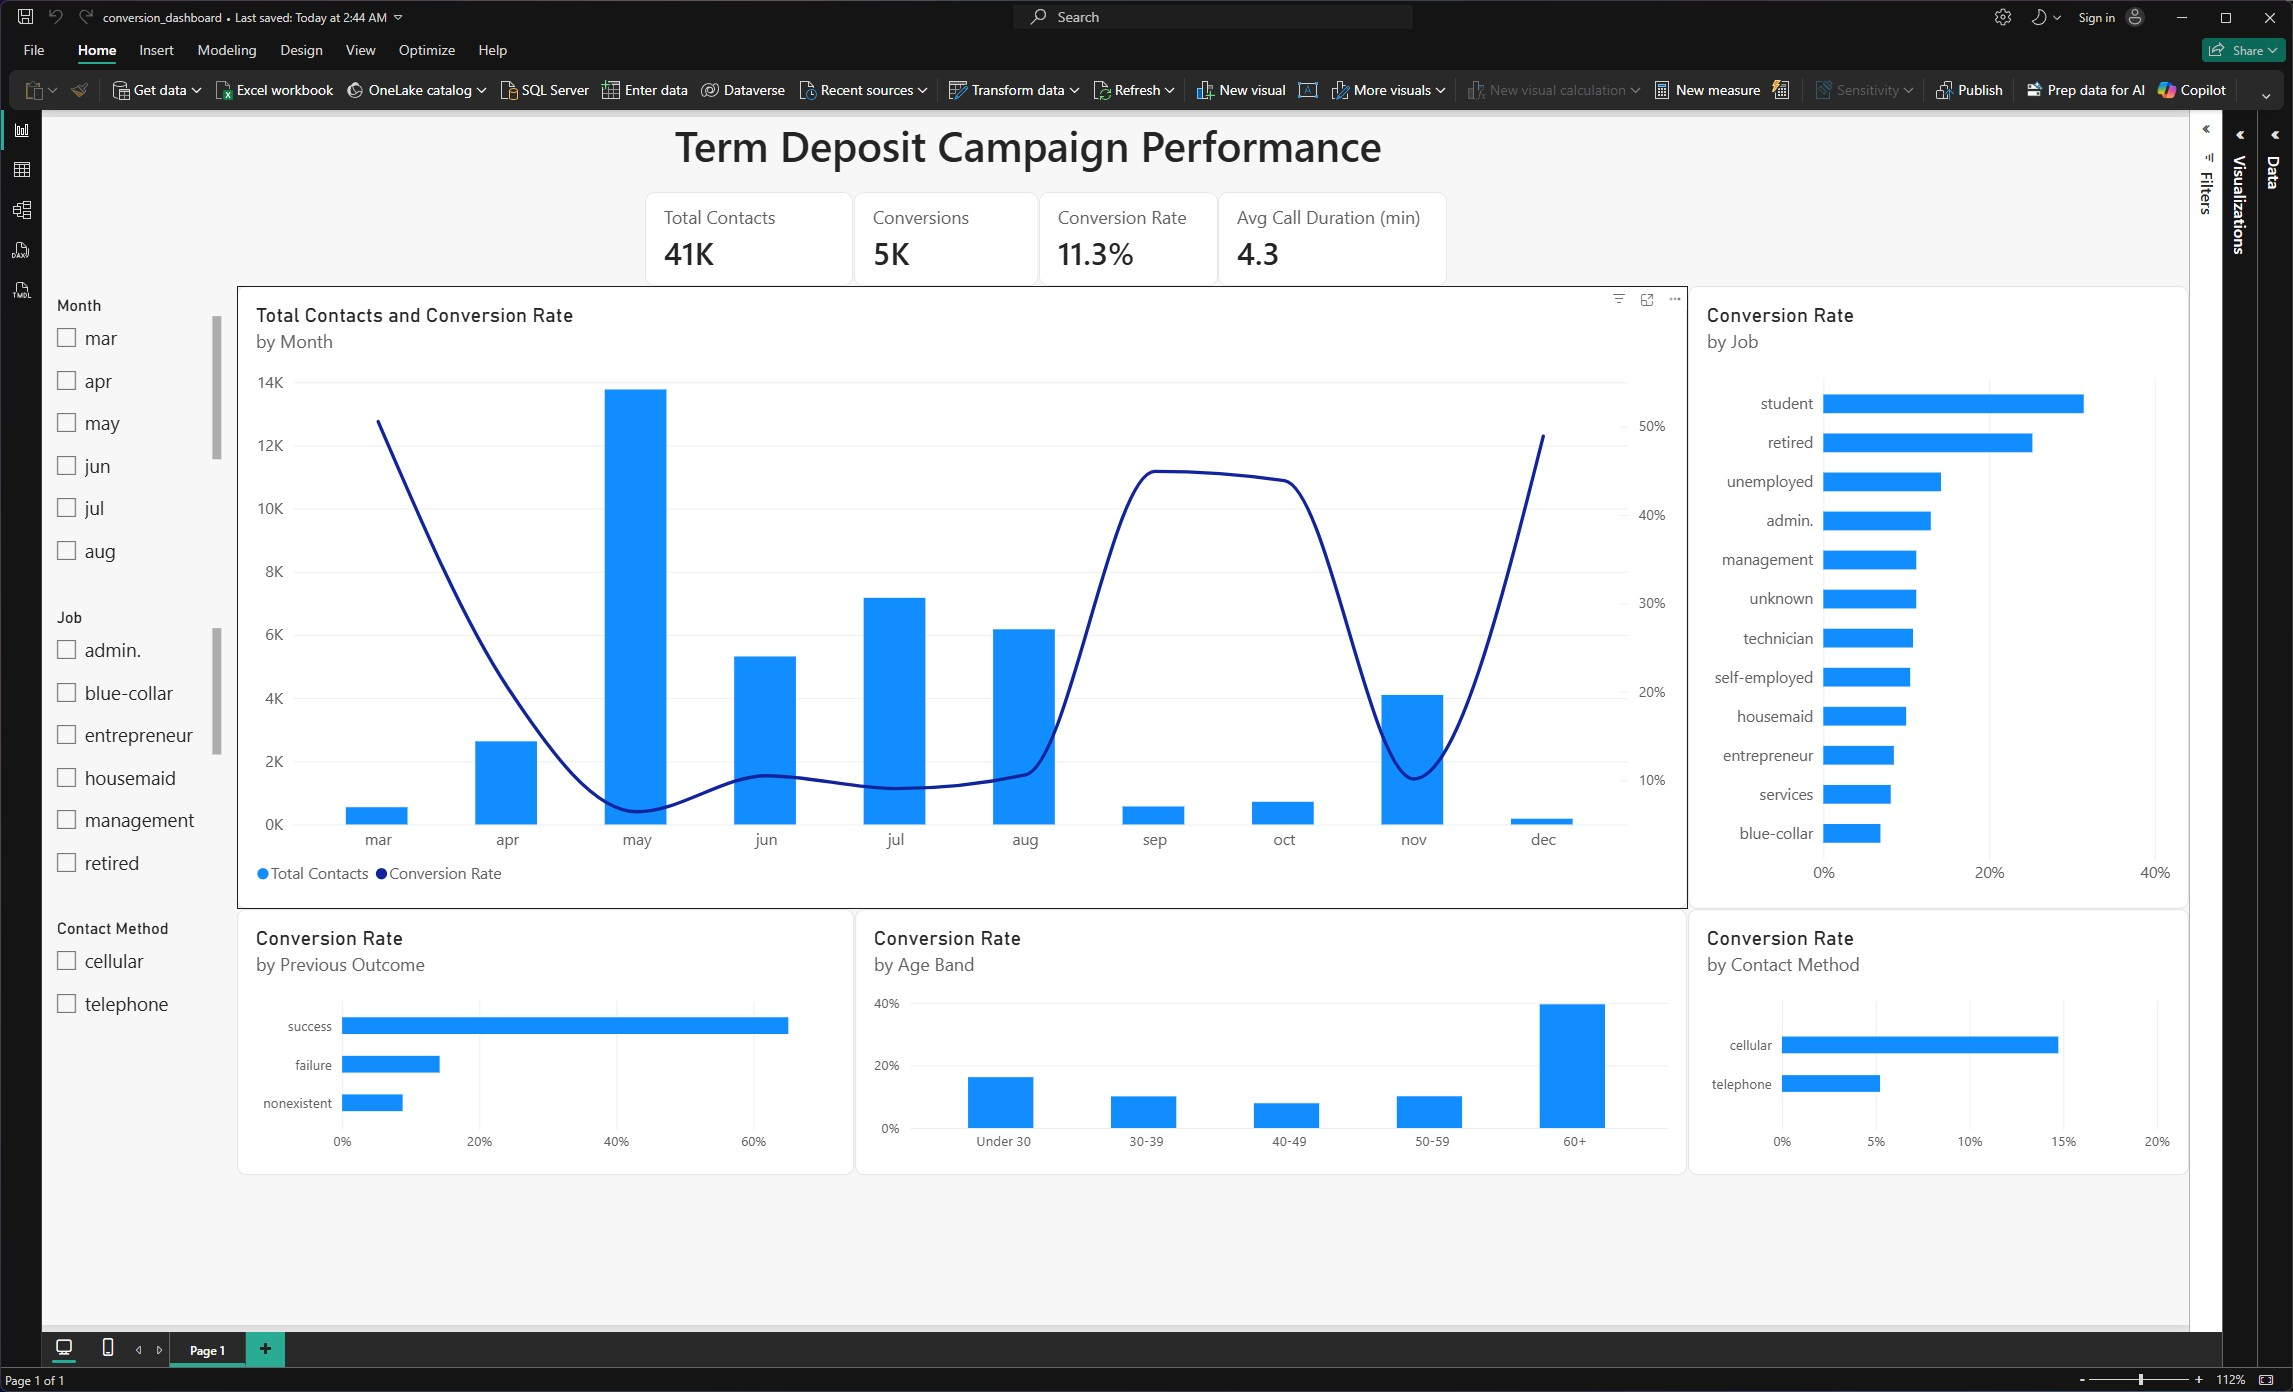

The page's visual inventory and layout, read from the dashboard file:
{"tool":"powerbi","page":{"name":"Page 1","canvas":[1920,1080],"ordinal":0},"visuals":[{"type":"cardVisual","fields":{"Data":["Campaign.Avg Call Duration (min)"]},"box":[1051.6,67.1,206,84.2],"z":0},{"type":"cardVisual","fields":{"Data":["Campaign.Conversion Rate"]},"box":[891.1,67.1,160.5,84.2],"z":1000},{"type":"cardVisual","fields":{"Data":["Campaign.Conversions"]},"box":[726.1,67.1,165,84.2],"z":2000},{"type":"cardVisual","fields":{"Data":["Campaign.Total Contacts"]},"box":[539.5,67.1,186.7,84.2],"z":3000},{"type":"lineStackedColumnComboChart","fields":{"Category":["Campaign.Month"],"Y":["Campaign.Total Contacts"],"Y2":["Campaign.Conversion Rate"]},"box":[174.1,151.4,1297.5,556.5],"z":4000},{"type":"clusteredBarChart","fields":{"Category":["Campaign.Job"],"Y":["Campaign.Conversion Rate"]},"box":[1471.6,151.4,448.4,556.5],"z":5000},{"type":"clusteredColumnChart","fields":{"Category":["Campaign.Age Band"],"Y":["Campaign.Conversion Rate"]},"box":[727.3,707.9,744.3,237.9],"z":6000},{"type":"clusteredBarChart","fields":{"Category":["Campaign.Previous Outcome"],"Y":["Campaign.Conversion Rate"]},"box":[174.1,707.9,552,237.9],"z":7000},{"type":"slicer","fields":{"Values":["Campaign.Month"]},"box":[5.7,160.5,154.8,239],"z":8000},{"type":"slicer","fields":{"Values":["Campaign.Job"]},"box":[5.7,439.3,154.8,245.8],"z":9000},{"type":"slicer","fields":{"Values":["Campaign.Contact Method"]},"box":[5.7,717,154.8,94.5],"z":10000},{"type":"textbox","box":[292.5,0,1179.1,67.1],"z":10001},{"type":"clusteredBarChart","fields":{"Category":["Campaign.Contact Method"],"Y":["Campaign.Conversion Rate"]},"box":[1471.6,707.9,448.4,237.9],"z":10002}]}

Visuals, with their boxes on the page's 1920x1080 design canvas (x1, y1, x2, y2). These are canvas units, not pixel positions in the 2293x1392 screenshot, which may show the page scaled, cropped or inside an application window:
cardVisual - Campaign.Avg Call Duration (min): rect(1052, 67, 1258, 151)
cardVisual - Campaign.Conversion Rate: rect(891, 67, 1052, 151)
cardVisual - Campaign.Conversions: rect(726, 67, 891, 151)
cardVisual - Campaign.Total Contacts: rect(540, 67, 726, 151)
lineStackedColumnComboChart - Campaign.Month x Campaign.Total Contacts: rect(174, 151, 1472, 708)
clusteredBarChart - Campaign.Job x Campaign.Conversion Rate: rect(1472, 151, 1920, 708)
clusteredColumnChart - Campaign.Age Band x Campaign.Conversion Rate: rect(727, 708, 1472, 946)
clusteredBarChart - Campaign.Previous Outcome x Campaign.Conversion Rate: rect(174, 708, 726, 946)
slicer - Campaign.Month: rect(6, 160, 160, 400)
slicer - Campaign.Job: rect(6, 439, 160, 685)
slicer - Campaign.Contact Method: rect(6, 717, 160, 812)
textbox: rect(292, 0, 1472, 67)
clusteredBarChart - Campaign.Contact Method x Campaign.Conversion Rate: rect(1472, 708, 1920, 946)
